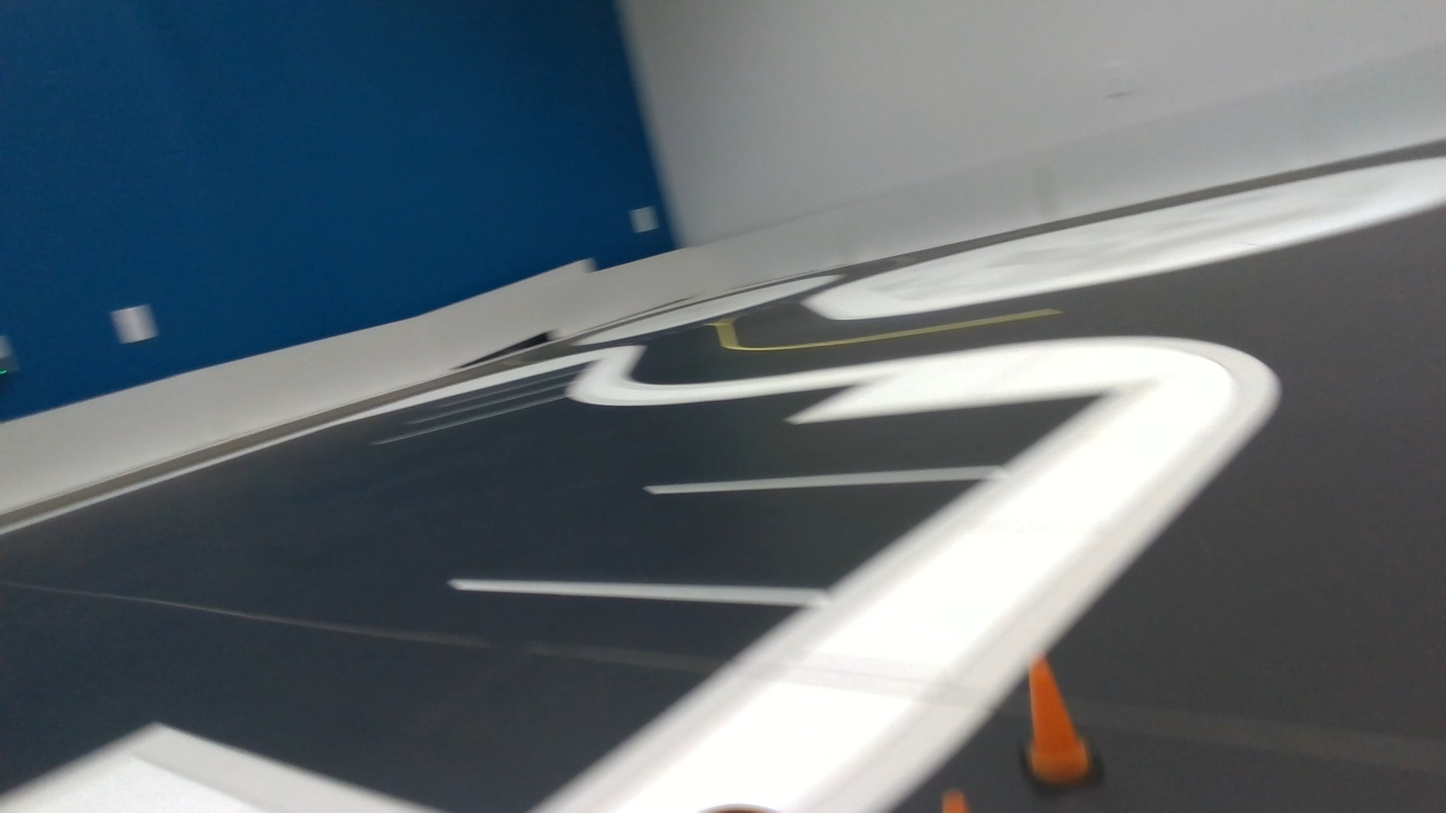Traffic Cone: (1023, 658, 1099, 788), (942, 790, 969, 812)
